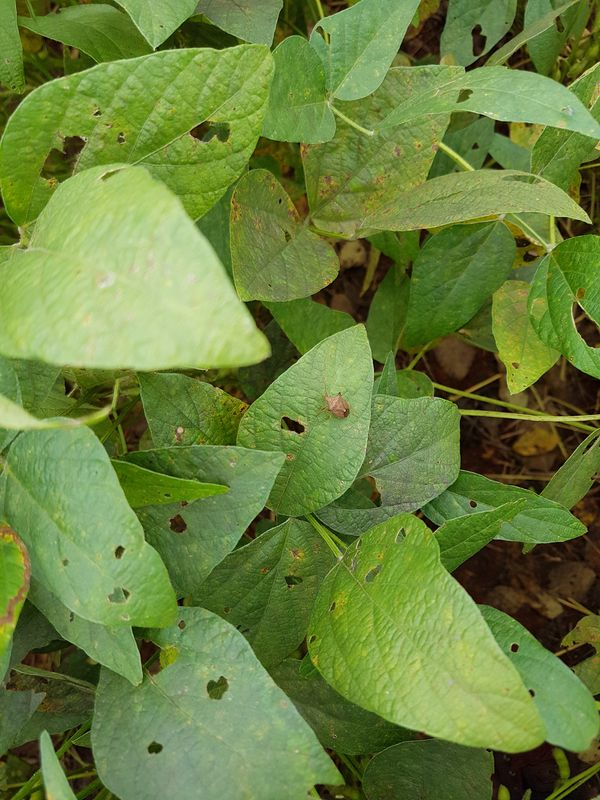Euschistus_heros_adulto: (315, 384, 358, 425)
